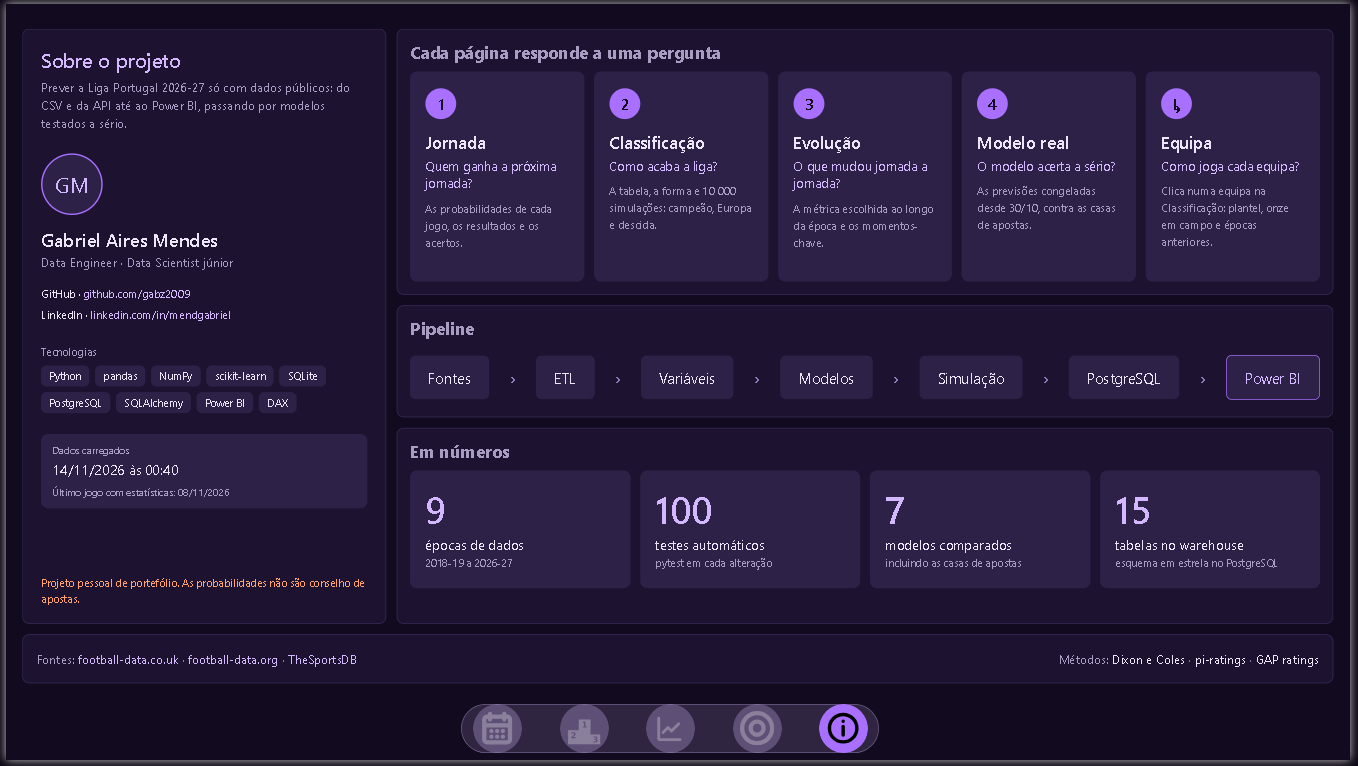

Layout of this report page (visuals, bound fields, positions):
{"tool":"powerbi","page":{"name":"Sobre o projeto","canvas":[1920,1080],"ordinal":5},"visuals":[{"type":"shape","box":[650.3,1000,597.1,70],"z":0},{"type":"actionButton","box":[1161.4,1000,70,70],"z":1000},{"type":"actionButton","box":[667.1,1000,70,70],"z":2000},{"type":"actionButton","box":[914.8,1000.2,70,70],"z":3000},{"type":"actionButton","box":[791.4,1000,70,70],"z":4000},{"type":"actionButton","box":[1038.6,1000,70,70],"z":5000},{"type":"htmlContent443BE3AD55E043BF878BED274D3A6855","fields":{"content":["_Medidas.Página sobre o projeto"]},"box":[6.7,21.5,1905.5,965.5],"z":7000}]}

Visuals, with their boxes in screenshot pixels (x1, y1, x2, y2), scaled from the page's 1920x1080 canvas onto the 1358x766 screenshot:
shape: Rect(460, 709, 882, 759)
actionButton: Rect(821, 709, 871, 759)
actionButton: Rect(472, 709, 521, 759)
actionButton: Rect(647, 709, 697, 759)
actionButton: Rect(560, 709, 609, 759)
actionButton: Rect(735, 709, 784, 759)
htmlContent443BE3AD55E043BF878BED274D3A6855 - _Medidas.Página sobre o projeto: Rect(5, 15, 1352, 700)
